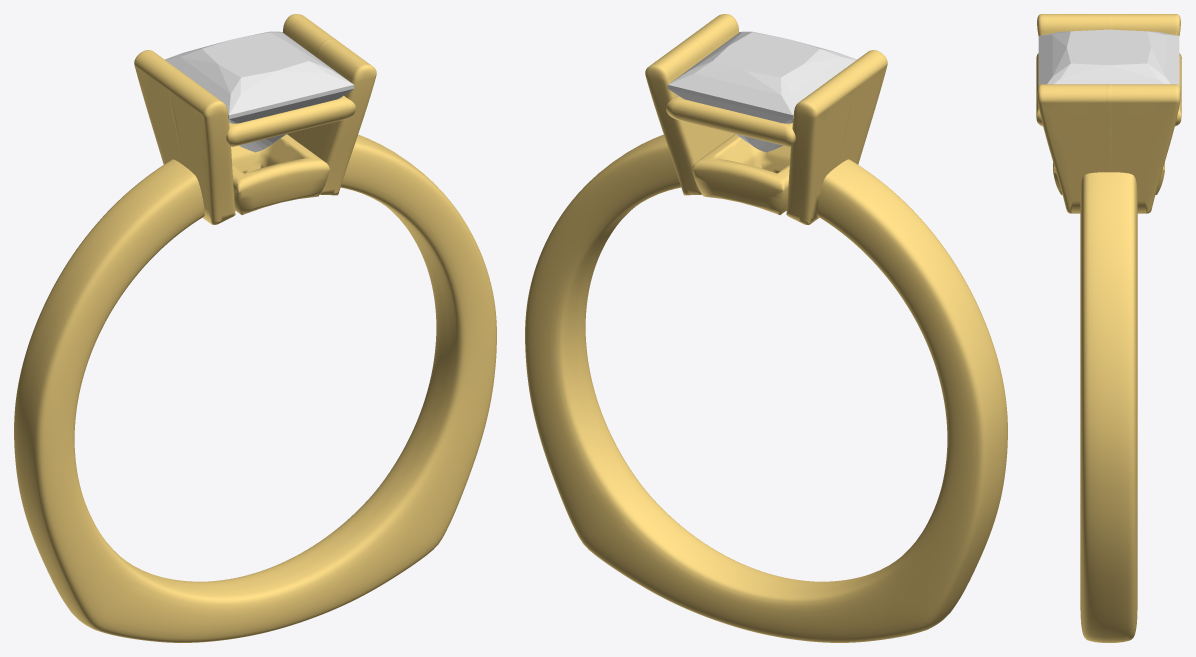
File: diamond-princess-yellowgold-halfmoonbezel-europeanshank-solitaire.glb
3 views of the same model, side by side, from view 1: azimuth 30°, elevation 25°; view 2: azimuth 150°, elevation 25°; view 3: azimuth 270°, elevation 25° (orthographic). The views are drawn at different scales.
Parts seen in each view (by area): view 1: metal, stone; view 2: metal, stone; view 3: metal, stone.
Boxes of the visible parts, x1,y1,x2,y2 form: metal: [14, 14, 496, 642]; stone: [165, 31, 354, 152]; metal: [525, 14, 1007, 642]; stone: [667, 31, 856, 152]; metal: [1036, 14, 1181, 642]; stone: [1038, 29, 1179, 85].
Bounding box in the file's own units: 20.11 × 23.65 × 5.6.
